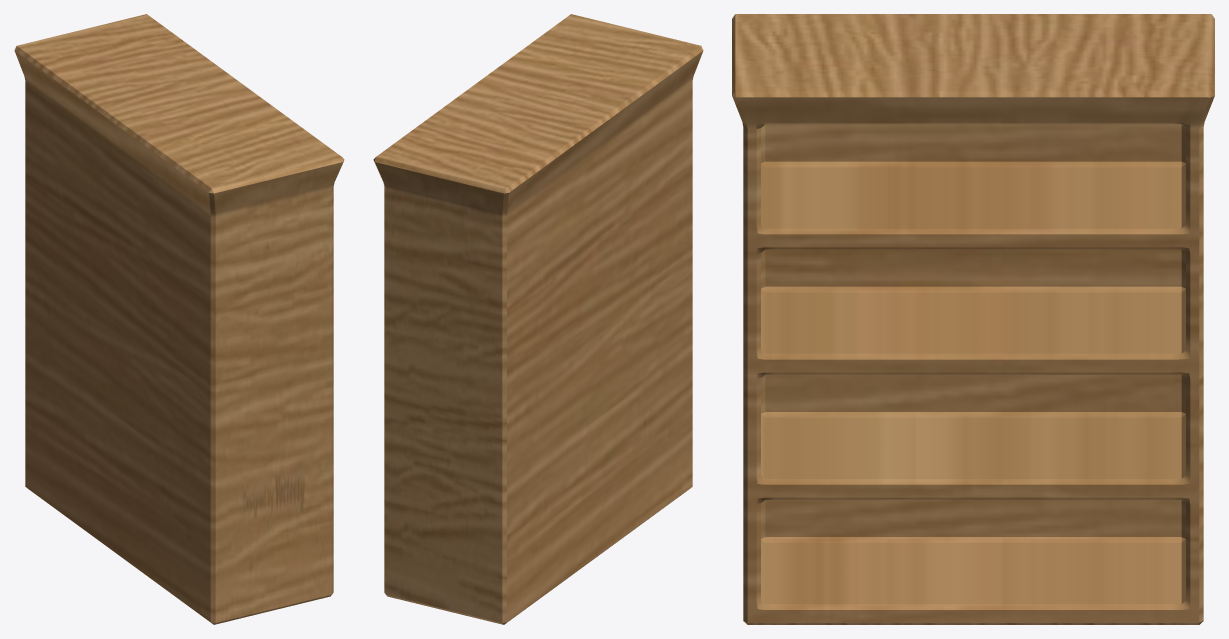
The model's file is librero.obj.
3 renders of one model, left to right at view 1: azimuth 30°, elevation 25°; view 2: azimuth 150°, elevation 25°; view 3: azimuth 270°, elevation 25°, orthographic. The views are drawn at different scales.
Visible parts, largest first — view 1: pCube1; view 2: pCube1; view 3: pCube1.
Boxes of the visible parts, x1,y1,x2,y2 form: pCube1: [14, 14, 344, 624]; pCube1: [373, 14, 703, 624]; pCube1: [732, 14, 1214, 624].
Bounding box in the file's own units: 1.66 × 5.15 × 4.2.
1 material, 1 textured.
